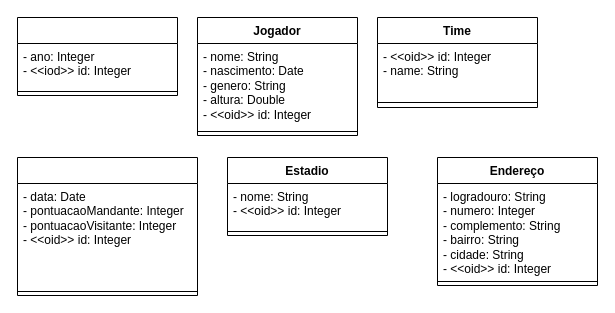
This 615x313 diagram has some shape labels left out. Each missing label, with the box of its shape:
Campeonato: (16, 16, 178, 96)
Partida: (16, 156, 198, 296)
